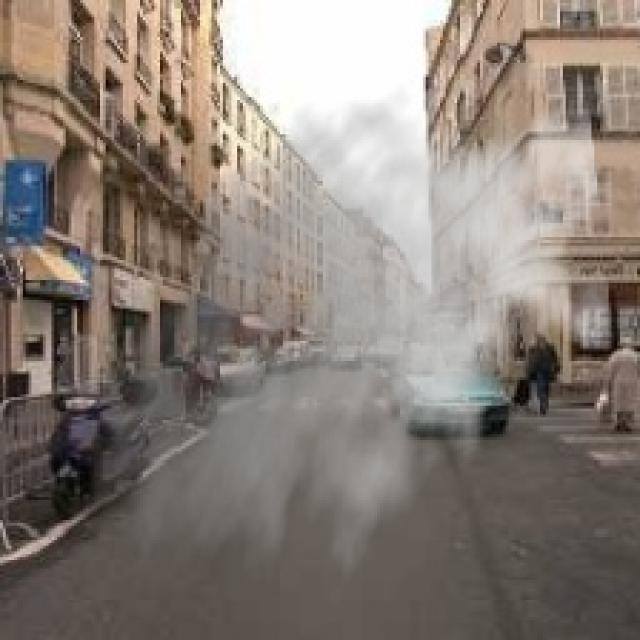Smoke: (82, 68, 614, 614)
